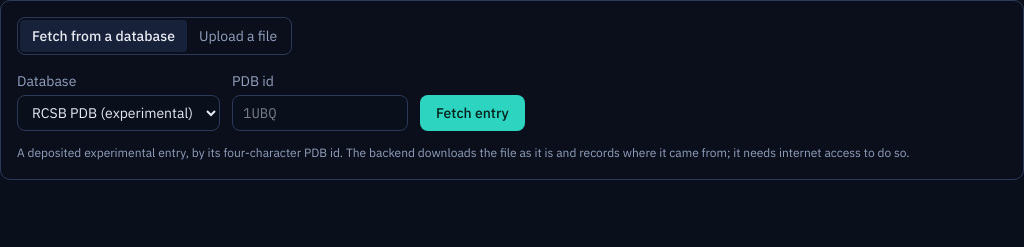
AddStructure › does not send an empty id
The width and height of the screenshot is (1024, 247).
Click the button "Fetch entry": (472, 113) [420,95,525,131]
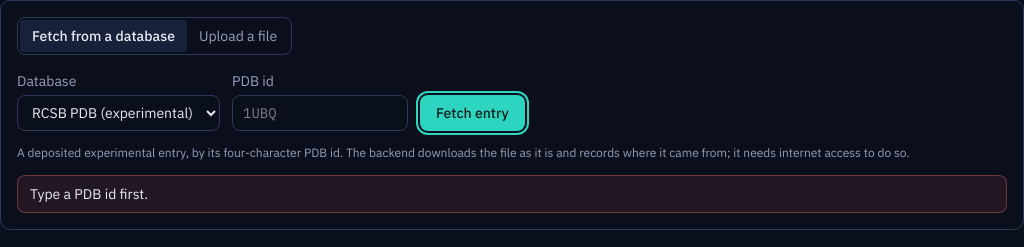
Check: the message reads "Type a PDB id first.", box [30,184,148,202]
